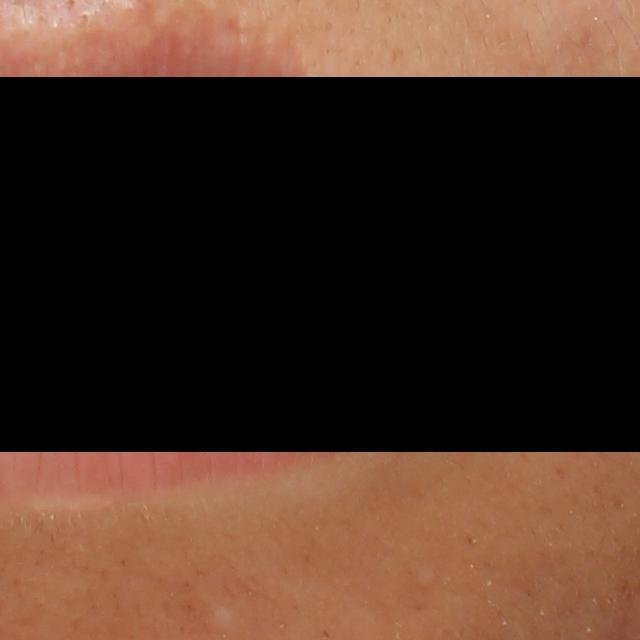comedo: (409, 568, 439, 588)
hypertrophic_scar: (191, 594, 241, 635)
